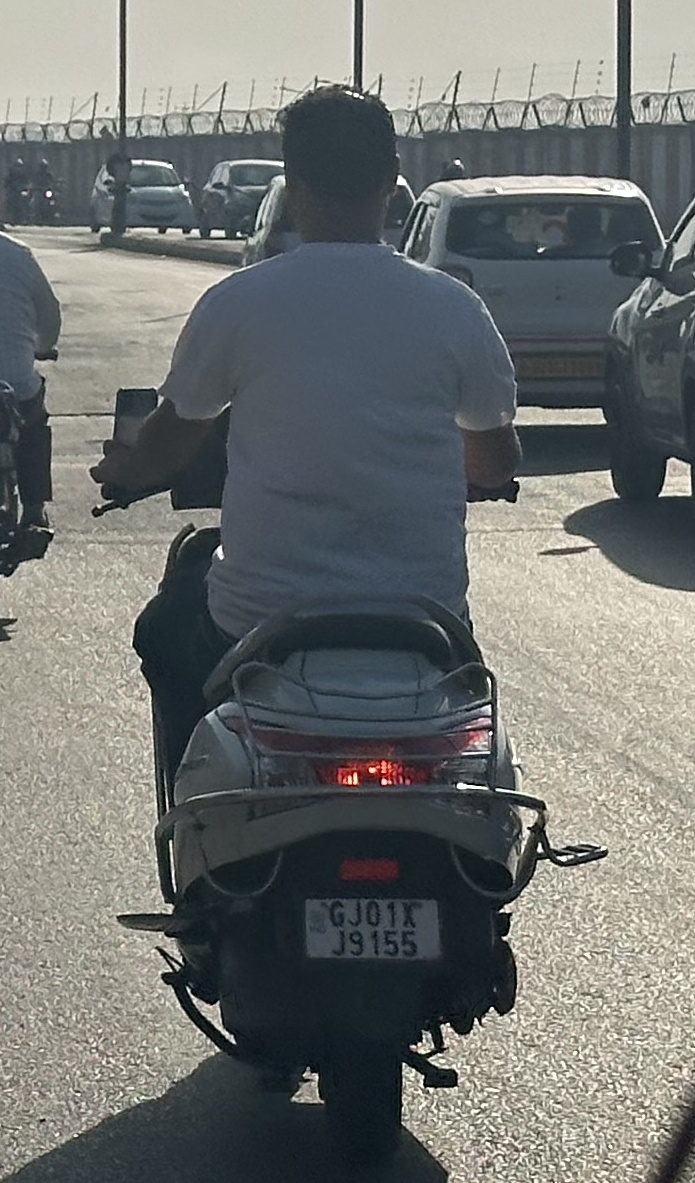BikeWithRider: (84, 71, 535, 1169), (6, 152, 36, 227), (30, 151, 59, 228)
NoHelmet: (262, 78, 409, 259)
